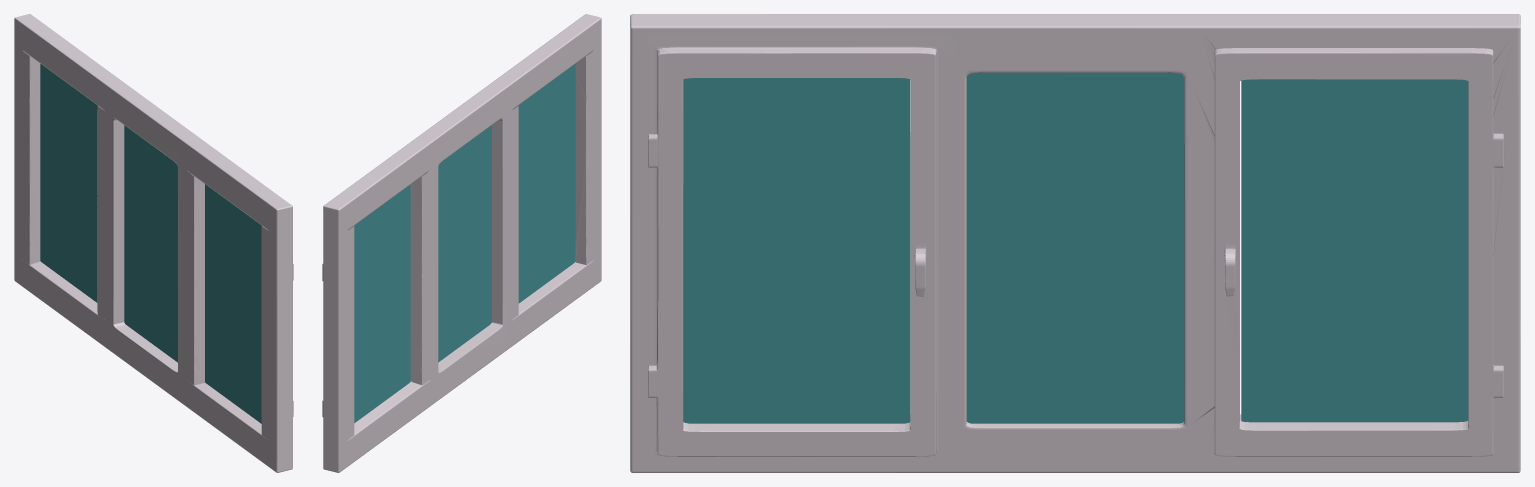
Rendered from Window.obj.
The picture shows the model from 3 angles, left to right: view 1: azimuth 30°, elevation 25°; view 2: azimuth 150°, elevation 25°; view 3: azimuth 270°, elevation 25°; orthographic projection. The views are drawn at different scales.
Visible parts, largest first — view 1: Window_Cube, Glass_Cube.001; view 2: Window_Cube, Glass_Cube.001; view 3: Glass_Cube.001, Window_Cube.
Boxes of the visible parts, x1,y1,x2,y2 form: Window_Cube: (14,14,293,472); Glass_Cube.001: (40,64,261,423); Window_Cube: (322,14,601,472); Glass_Cube.001: (354,64,575,422); Glass_Cube.001: (683,72,1468,423); Window_Cube: (630,14,1520,472).
Bounding box in the file's own units: 0.6903 × 5.52 × 9.97.
